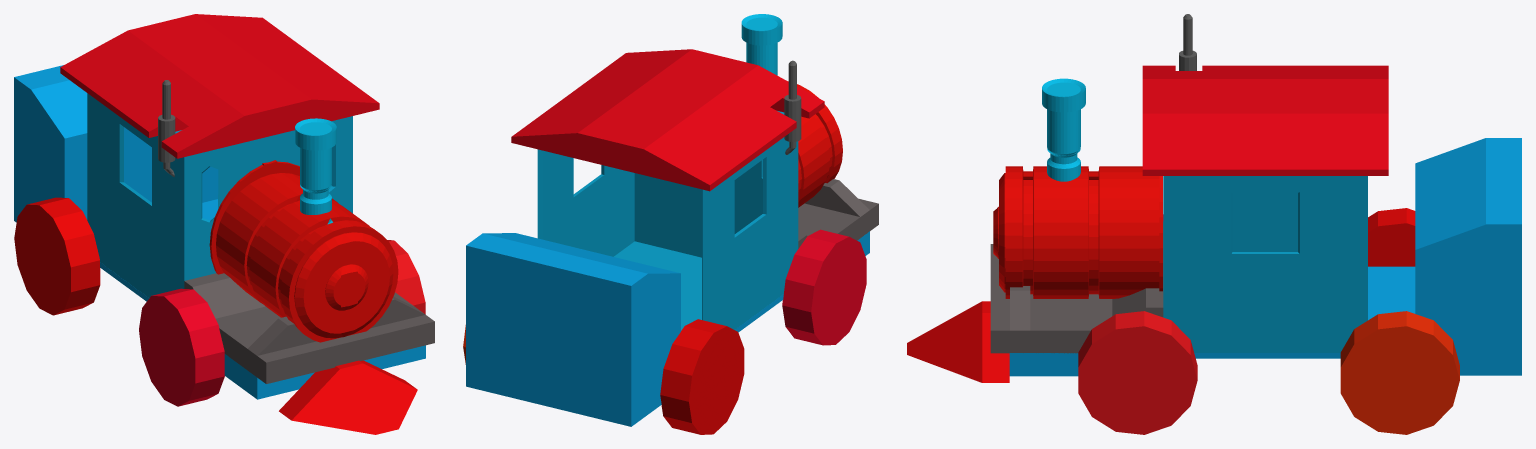
File: Train-FrontEngine.fbx
The picture shows the model from 3 angles, left to right: view 1: azimuth 30°, elevation 25°; view 2: azimuth 150°, elevation 25°; view 3: azimuth 270°, elevation 25°; orthographic projection. The views are drawn at different scales.
Parts seen in each view (by area): view 1: Train; view 2: Train; view 3: Train.
Part boxes in pixels (x1=…): Train: x1=14, y1=14, x2=434, y2=434; Train: x1=463, y1=14, x2=878, y2=434; Train: x1=907, y1=14, x2=1521, y2=434.
Bounding box in the file's own units: 273 × 338 × 600.
